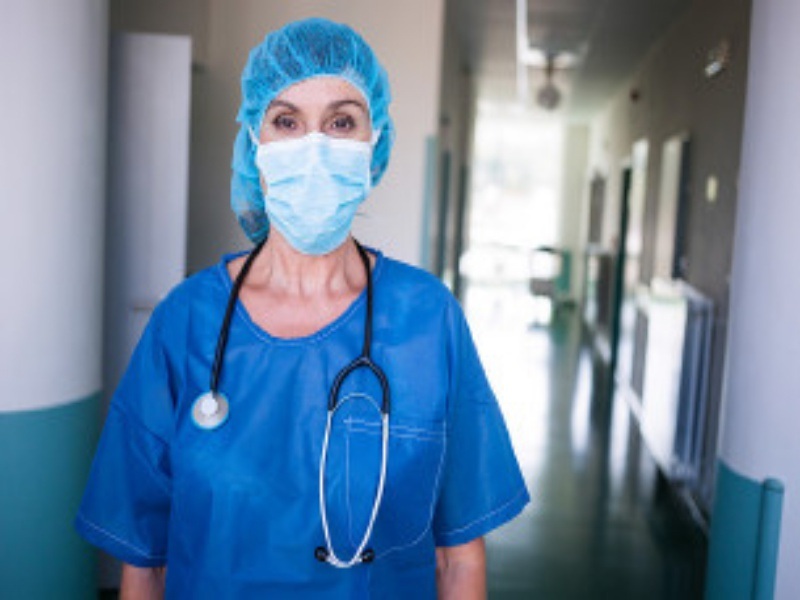mask: (230, 23, 397, 256)
